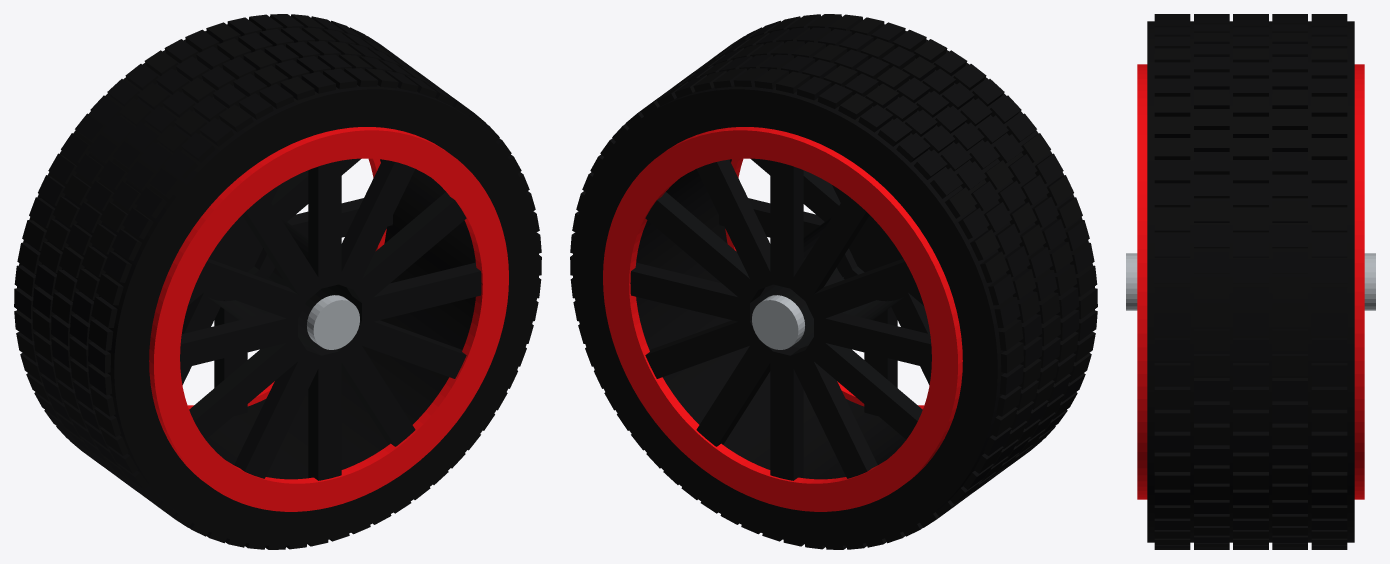
The model's file is wheel.dae.
The picture shows the model from 3 angles, left to right: view 1: azimuth 30°, elevation 25°; view 2: azimuth 150°, elevation 25°; view 3: azimuth 270°, elevation 25°; orthographic projection. The views are drawn at different scales.
Size of the model in its own units: 0.075 by 0.035 by 0.075.
